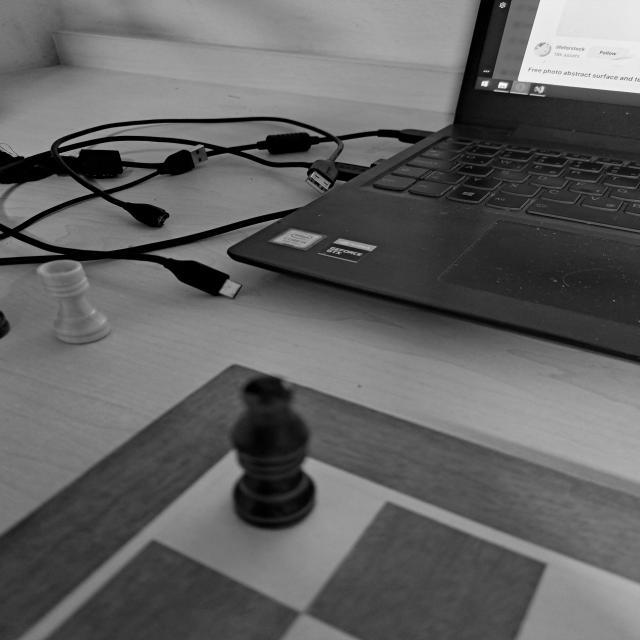chess-table-corners: (182, 422, 355, 500)
